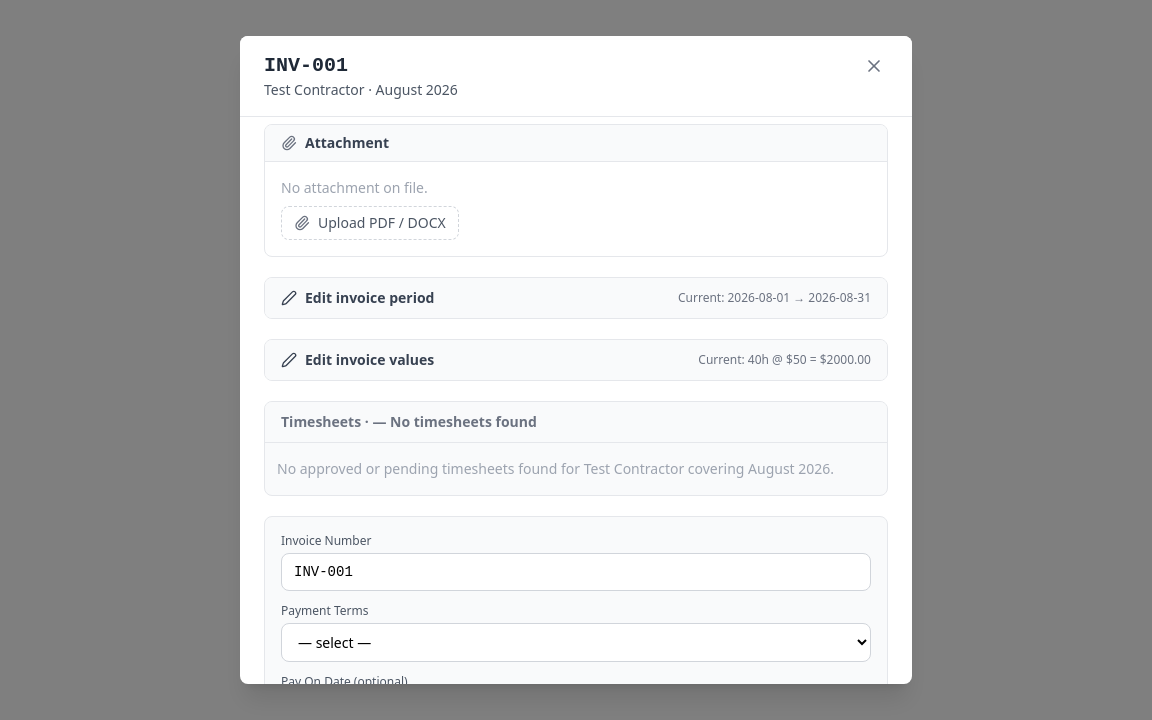
Test case: InvoiceDetailModal — I7 › value edit: multi-line invoices show unsupported warning
(page scrolled)
Click the button "Edit invoice values Current: 40h @ $50 = $2000.00" at (370, 360), box left=265, top=340, right=887, bottom=380
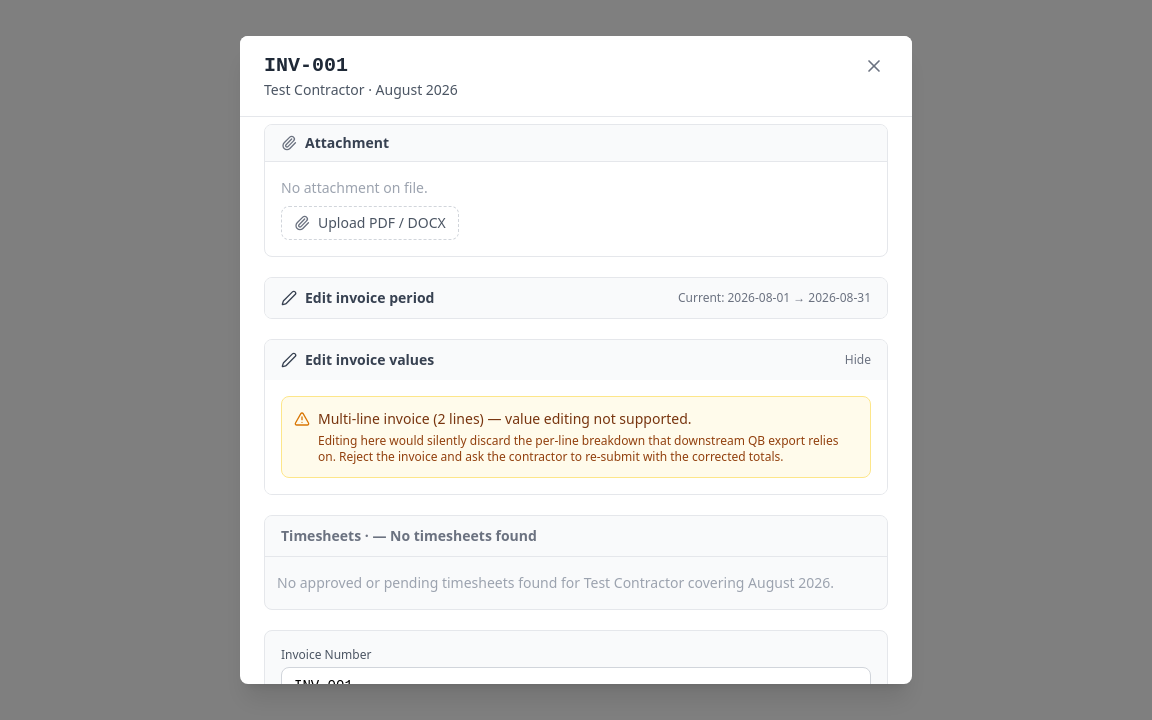
Expected: the text "Multi-line invoice (2 lines) — value editing not supported." is shown, left=318, top=409, right=692, bottom=428
